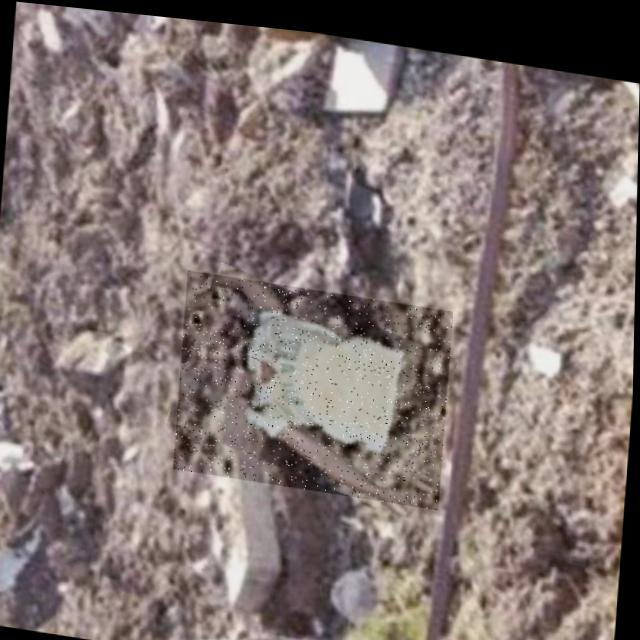Person in Rubble: (175, 264, 455, 500)
